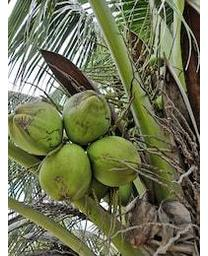coconut: (10, 100, 65, 154), (88, 135, 144, 186), (60, 90, 111, 144), (40, 145, 90, 199)
